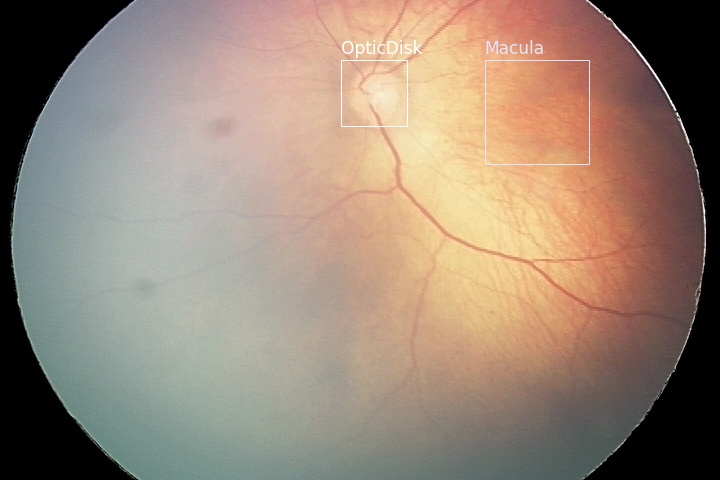Macula: (484, 59, 588, 163)
OpticDisk: (340, 59, 406, 125)
